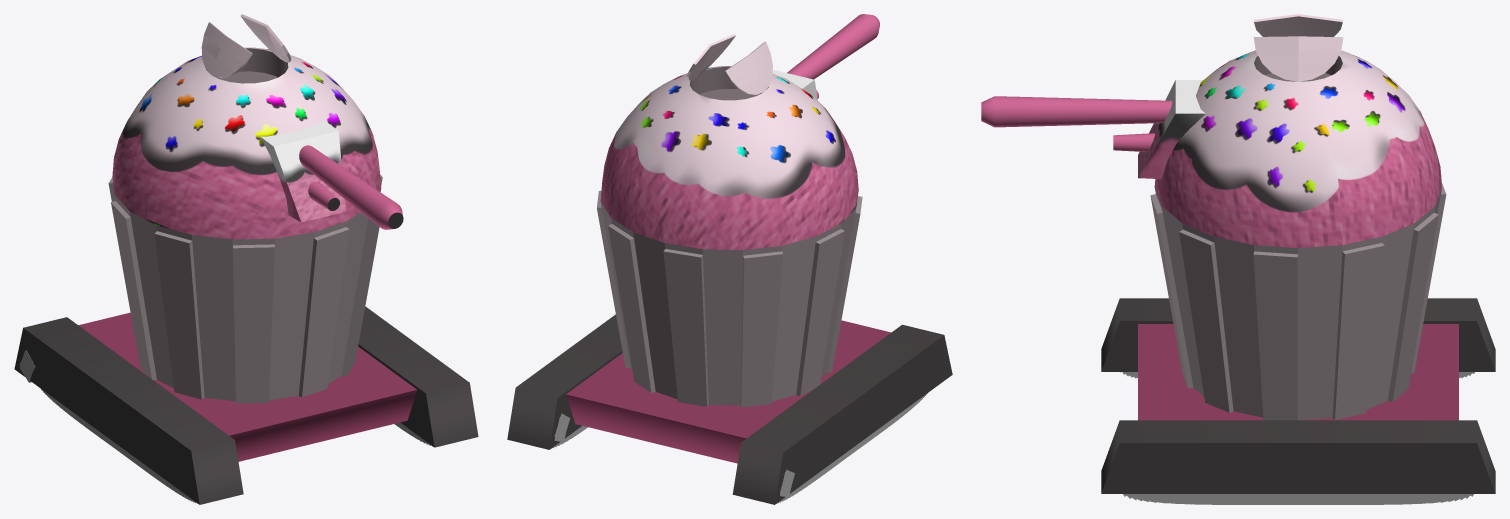
File: Cupcake Tank_Animation.fbx
3 views of the same model, side by side, from view 1: azimuth 30°, elevation 25°; view 2: azimuth 150°, elevation 25°; view 3: azimuth 270°, elevation 25° (orthographic). The views are drawn at different scales.
Parts seen in each view (by area): view 1: Body, pCube7, pCylinder3, Right_Track_MASH_ReproMesh, pCylinder2; view 2: Body, pCylinder3, Right_Track_MASH_ReproMesh; view 3: Body, pCylinder3, Left_Track_MASH_ReproMesh, pCube7, pCylinder2.
Boxes of the visible parts, x1,y1,x2,y2 form: Body: [14, 14, 478, 504]; pCube7: [260, 120, 345, 222]; pCylinder3: [299, 145, 403, 229]; Right_Track_MASH_ReproMesh: [19, 350, 197, 503]; pCylinder2: [308, 181, 339, 210]; Body: [507, 34, 952, 504]; pCylinder3: [787, 14, 879, 79]; Right_Track_MASH_ReproMesh: [778, 393, 927, 503]; Body: [1101, 14, 1495, 493]; pCylinder3: [981, 96, 1172, 127]; Left_Track_MASH_ReproMesh: [1123, 494, 1473, 504]; pCube7: [1138, 80, 1205, 178]; pCylinder2: [1113, 133, 1154, 151].
Bounding box in the file's own units: 109 × 146 × 164.
